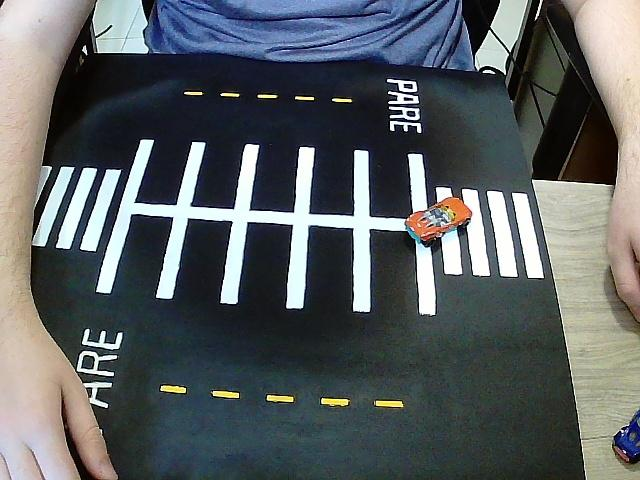Carro: (404, 195, 472, 246)
